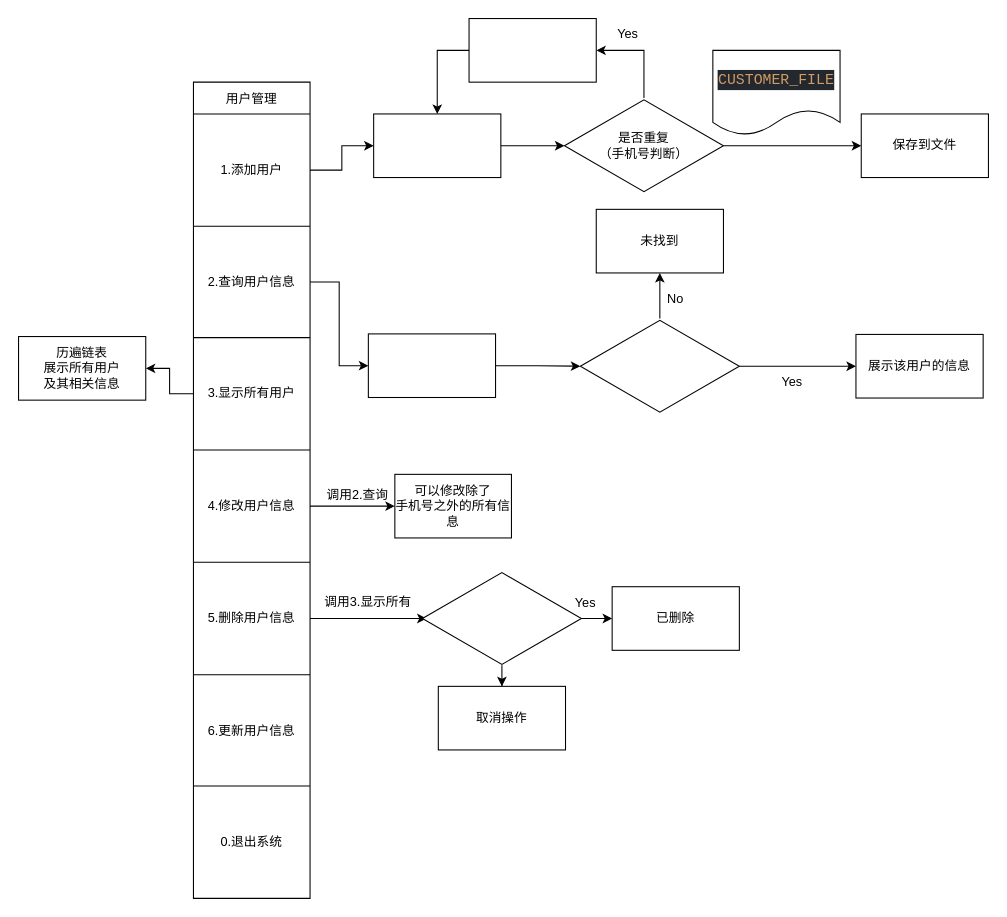
Image size: 1007x917. Some labels were removed from this diagram. Each missing label, with the box of its shape:
find?: (579, 317, 739, 414)
是否删除？: (421, 570, 581, 666)
输入信息: (373, 113, 501, 178)
输入要查询的 用户号码: (367, 333, 496, 398)
重新输入信息: (468, 17, 596, 82)
